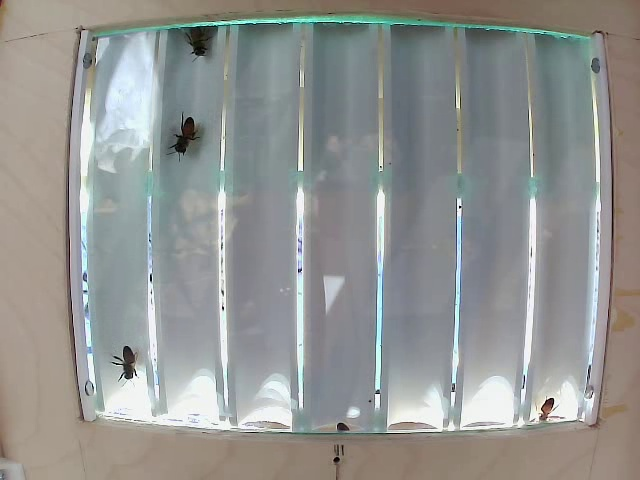bee: (161, 106, 211, 155), (184, 26, 231, 70)
